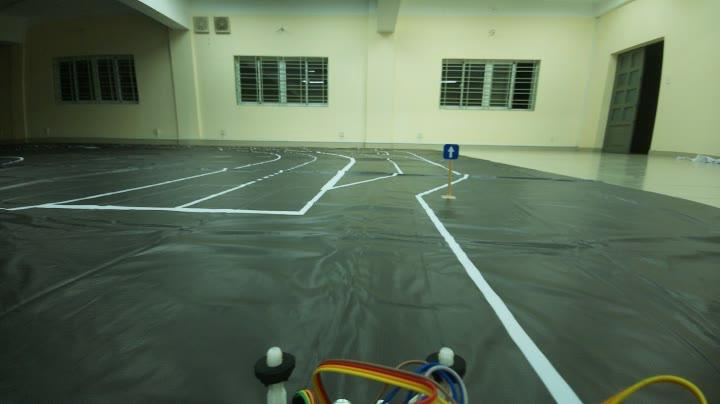onewayroad: (439, 136, 463, 162)
